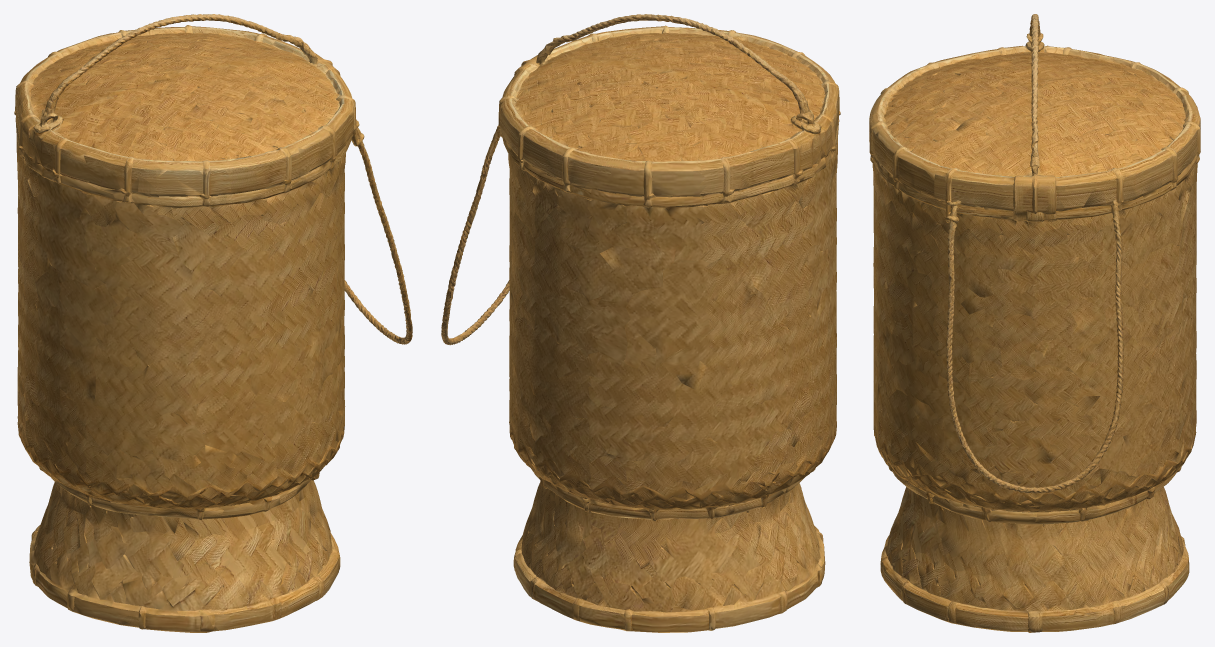
The model's file is sticky-rice-basket.glb.
3 views of the same model, side by side, from view 1: azimuth 30°, elevation 25°; view 2: azimuth 150°, elevation 25°; view 3: azimuth 270°, elevation 25° (orthographic). The views are drawn at different scales.
Visible parts, largest first — view 1: Mesh_0; view 2: Mesh_0; view 3: Mesh_0.
Part boxes in pixels (box(x1,y1,x2,y2)): Mesh_0: box(14, 14, 412, 632); Mesh_0: box(441, 14, 840, 632); Mesh_0: box(869, 14, 1200, 632).
Size of the model in its own units: 0.6724 by 1 by 0.5588.
1 material, 1 textured.
